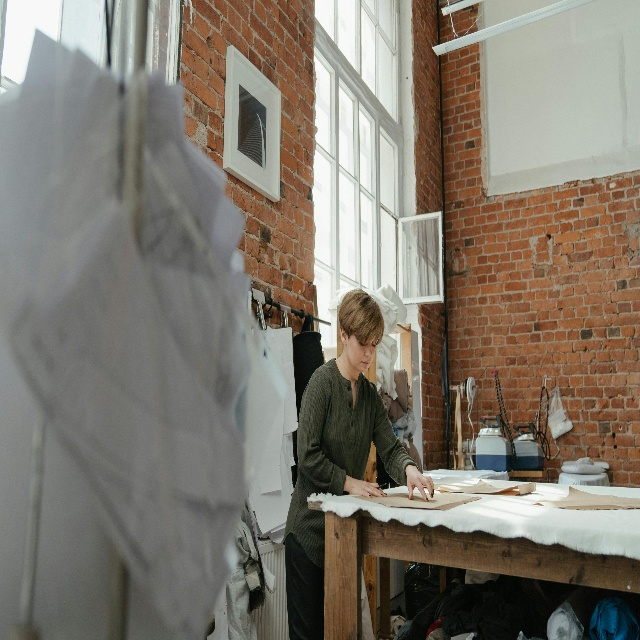Sin_guantes: (406, 466, 435, 502), (348, 477, 388, 498)
